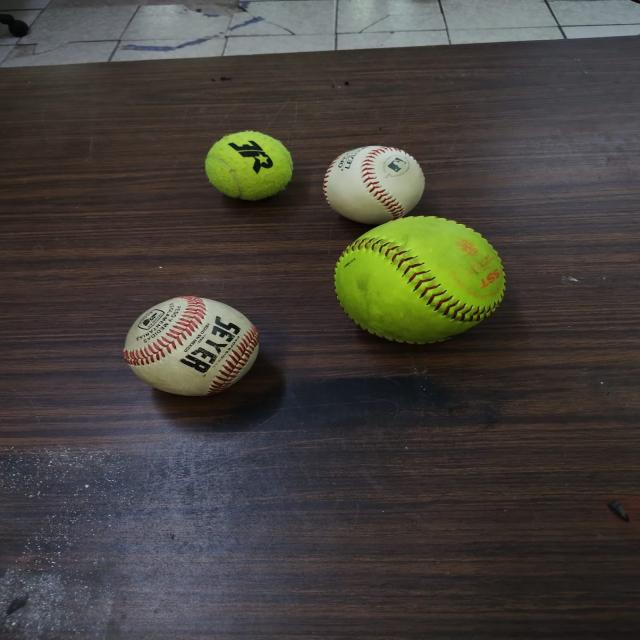beisbol ball: (123, 296, 260, 397), (322, 146, 425, 223)
softball ball: (333, 216, 508, 342)
tenis ball: (203, 130, 294, 201)
